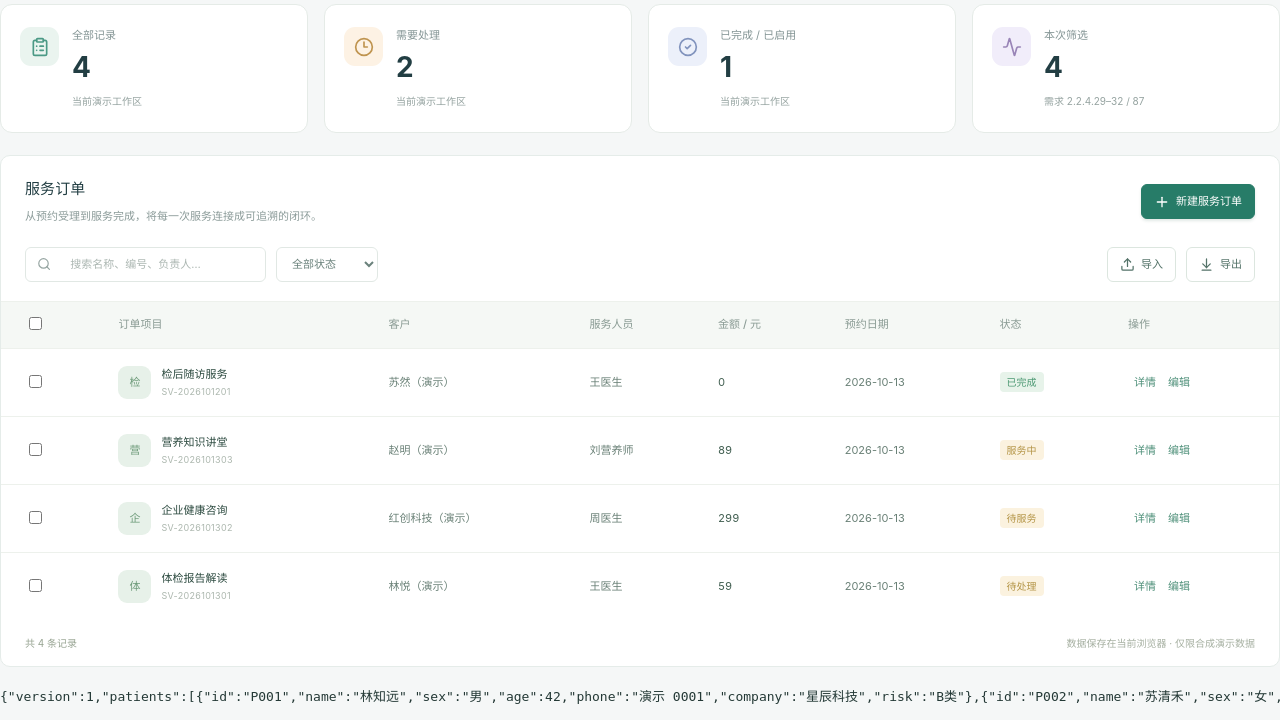
Scenario: Operations working business flows › advances a service order only through its permitted lifecycle and retains history
(page scrolled)
Step 1. Click the 4th button "详情" → (1145, 586), box [1128,575,1162,597]
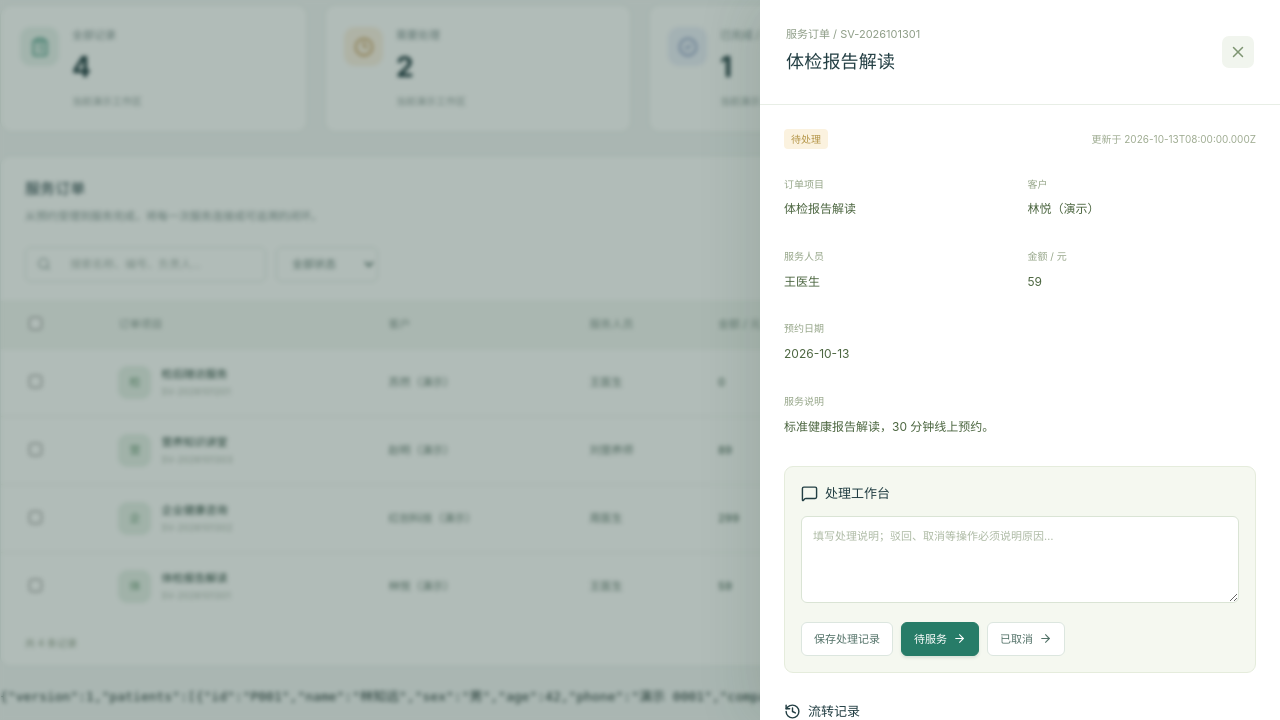
Step 2. Click the button "待服务" → (940, 639), box [901,622,979,656]
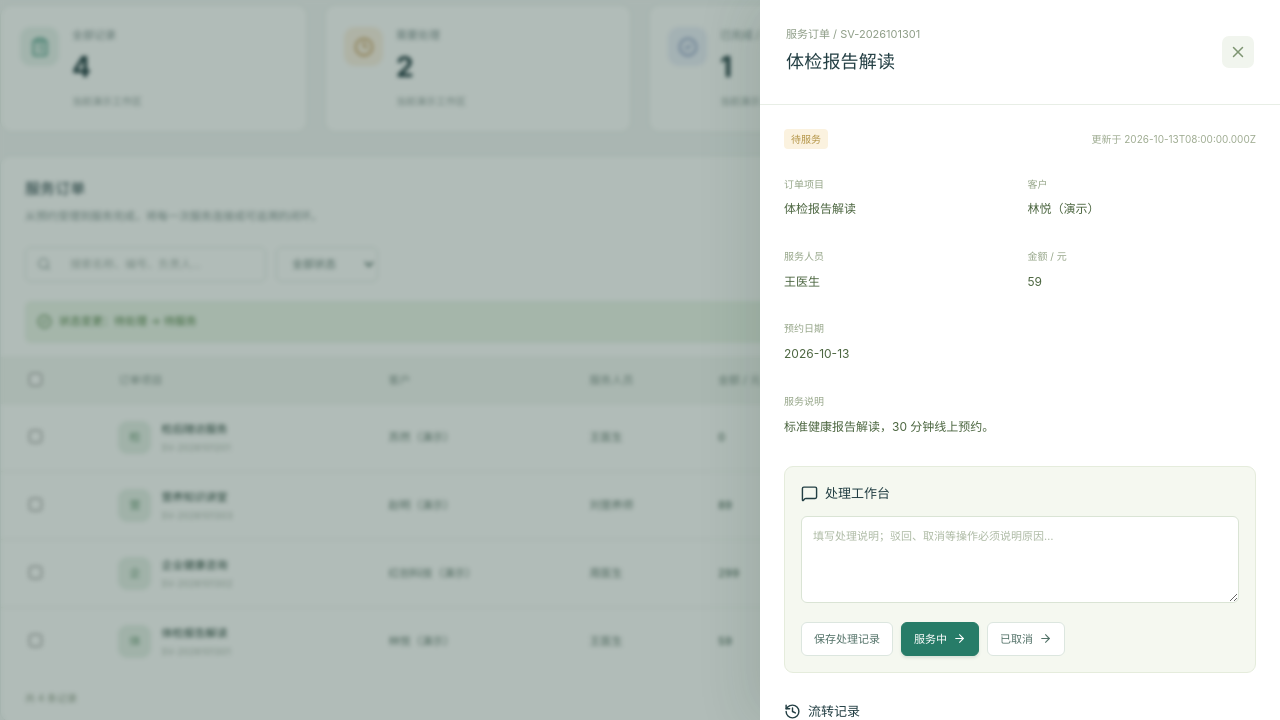
Step 3. Click the button "服务中" → (940, 639), box [901,622,979,656]
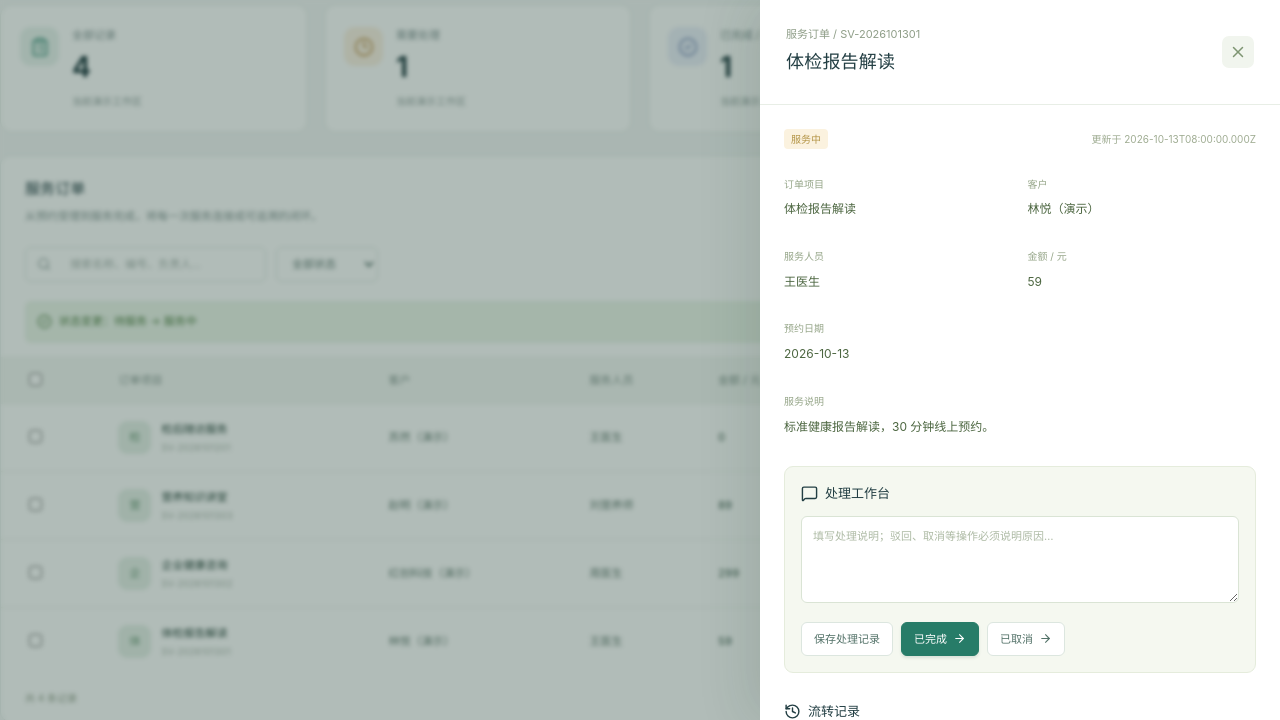
Step 4. Click the button "已完成" → (940, 639), box [901,622,979,656]
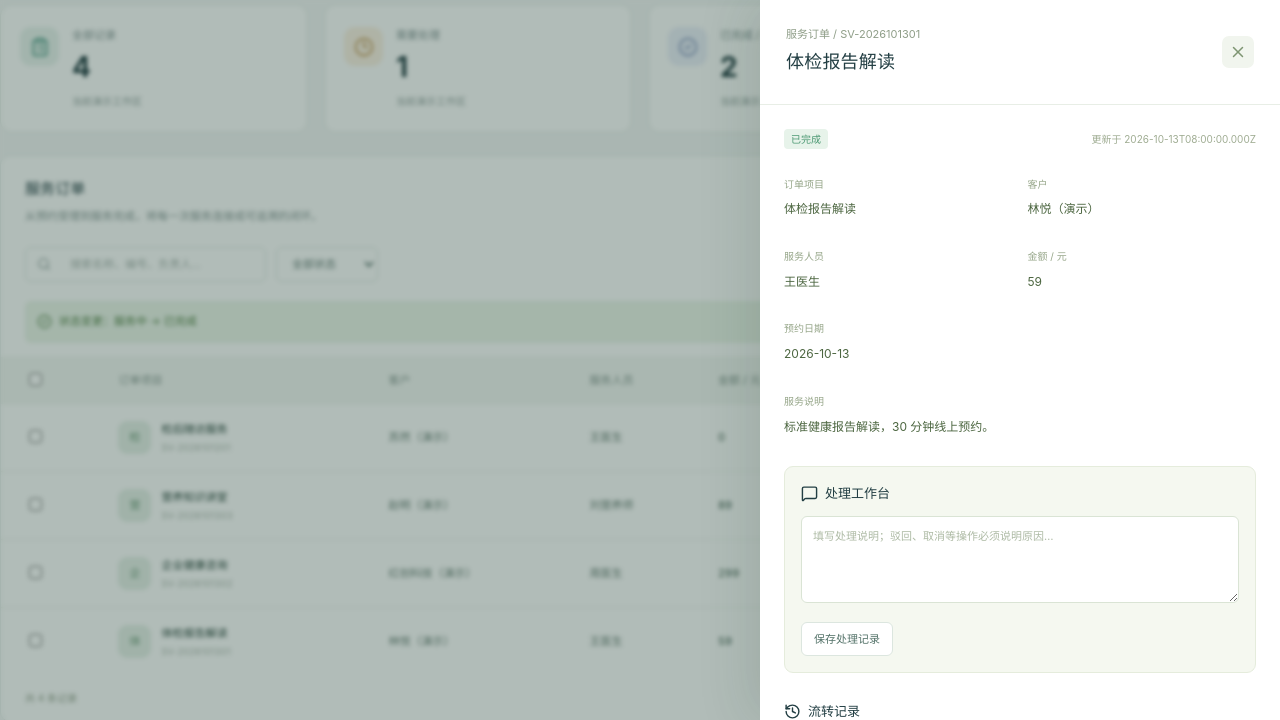
expect the button "已取消" is gone: met
